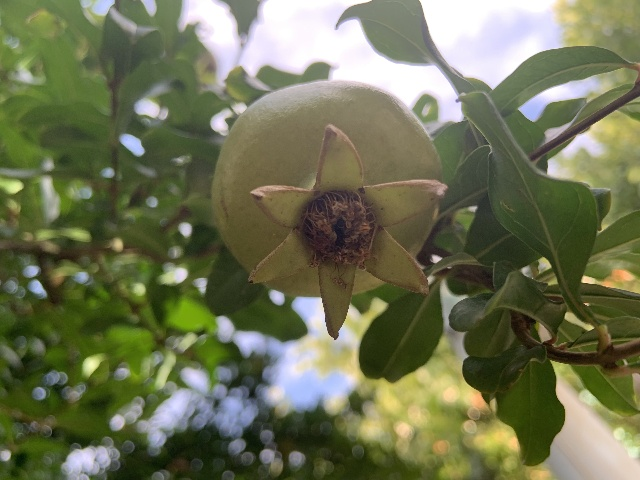mid-growth: (210, 78, 449, 341)
